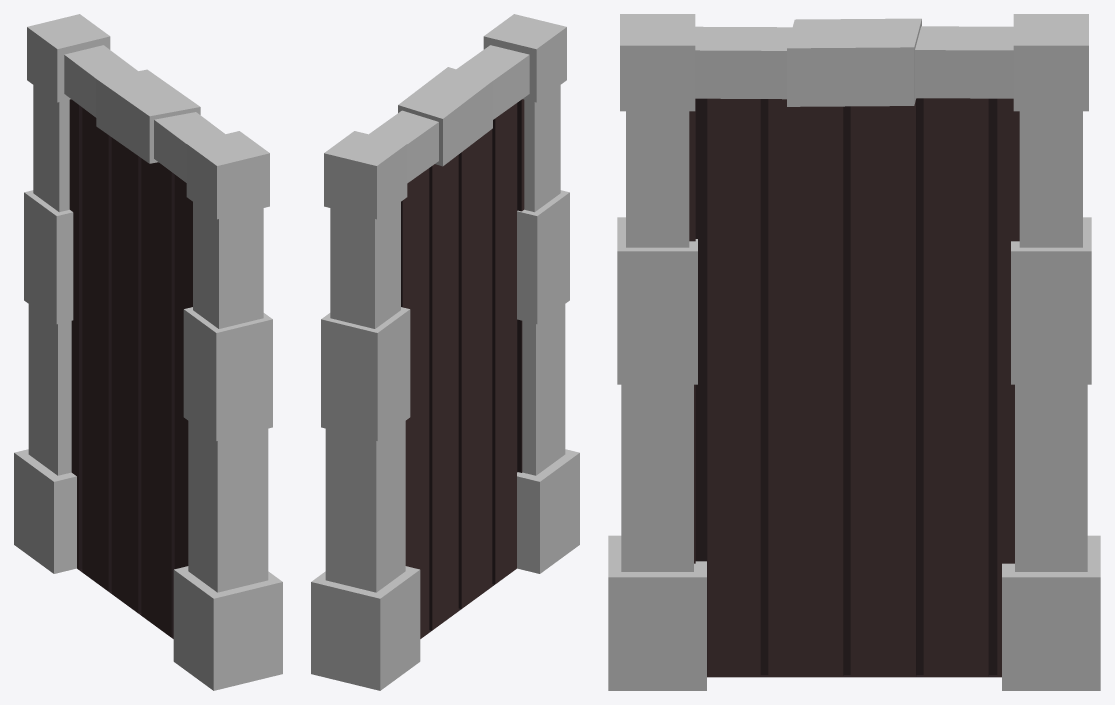
The model's file is PuertaParedon.fbx.
3 views of the same model, side by side, from view 1: azimuth 30°, elevation 25°; view 2: azimuth 150°, elevation 25°; view 3: azimuth 270°, elevation 25° (orthographic). The views are drawn at different scales.
Visible parts, largest first — view 1: Cube.003; view 2: Cube.003; view 3: Cube.003.
Part boxes in pixels (x1=…): Cube.003: x1=14, y1=14, x2=282, y2=690; Cube.003: x1=311, y1=14, x2=579, y2=690; Cube.003: x1=608, y1=14, x2=1100, y2=690.
Size of the model in its own units: 30 by 215 by 150.
